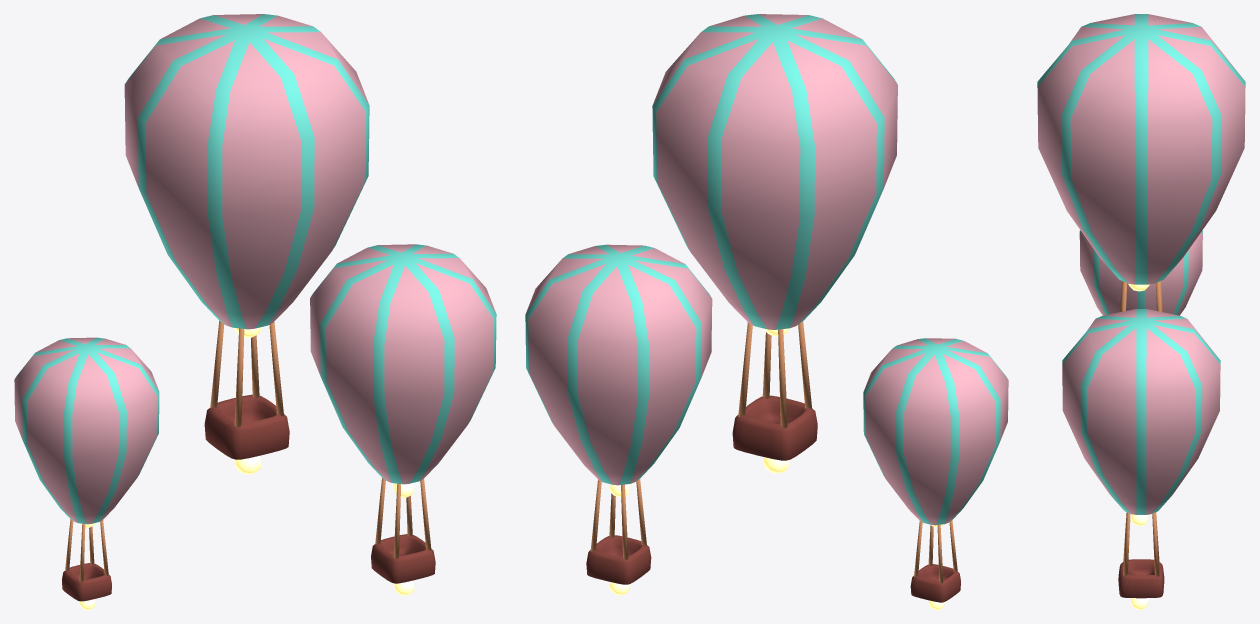
File: Lamp_PastelPop.glb
3 views of the same model, side by side, from view 1: azimuth 30°, elevation 25°; view 2: azimuth 150°, elevation 25°; view 3: azimuth 270°, elevation 25° (orthographic). The views are drawn at different scales.
Visible parts, largest first — view 1: Lamp_PastelPop; view 2: Lamp_PastelPop; view 3: Lamp_PastelPop.
Part boxes in pixels (x1=…): Lamp_PastelPop: x1=14, y1=14, x2=496, y2=609; Lamp_PastelPop: x1=525, y1=14, x2=1008, y2=609; Lamp_PastelPop: x1=1037, y1=14, x2=1245, y2=609.
Bounding box in the file's own units: 0.4394 × 0.5476 × 0.2017.
2 materials, 1 textured.
